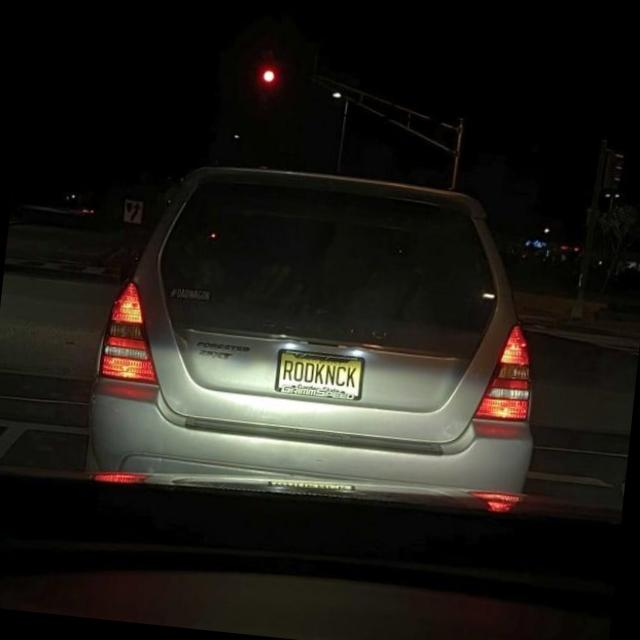LicensePlate: (273, 348, 365, 401)
